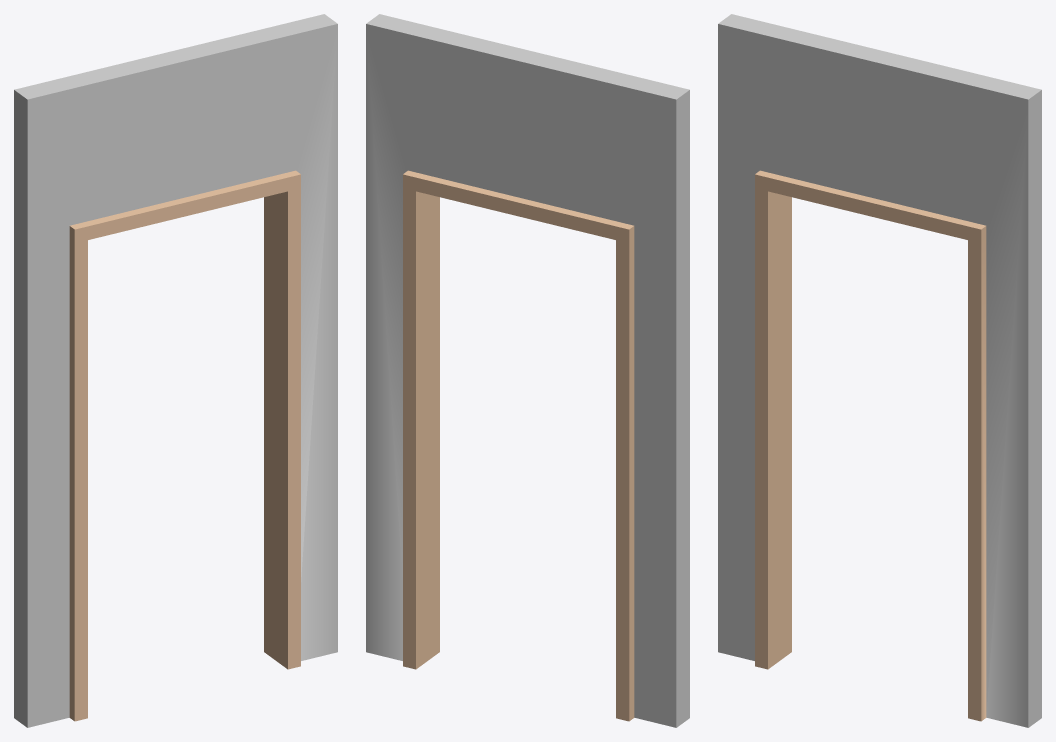
The model's file is Wall Doorway.fbx.
The picture shows the model from 3 angles, left to right: view 1: azimuth 30°, elevation 25°; view 2: azimuth 150°, elevation 25°; view 3: azimuth 330°, elevation 25°; orthographic projection.
Parts seen in each view (by area): view 1: wallDoorway.001; view 2: wallDoorway.001; view 3: wallDoorway.001.
Boxes of the visible parts, bbox=[...] form: wallDoorway.001: bbox=[14, 14, 337, 727]; wallDoorway.001: bbox=[366, 14, 689, 727]; wallDoorway.001: bbox=[718, 14, 1041, 727].
Bounding box in the file's own units: 100 × 193 × 13.37.
